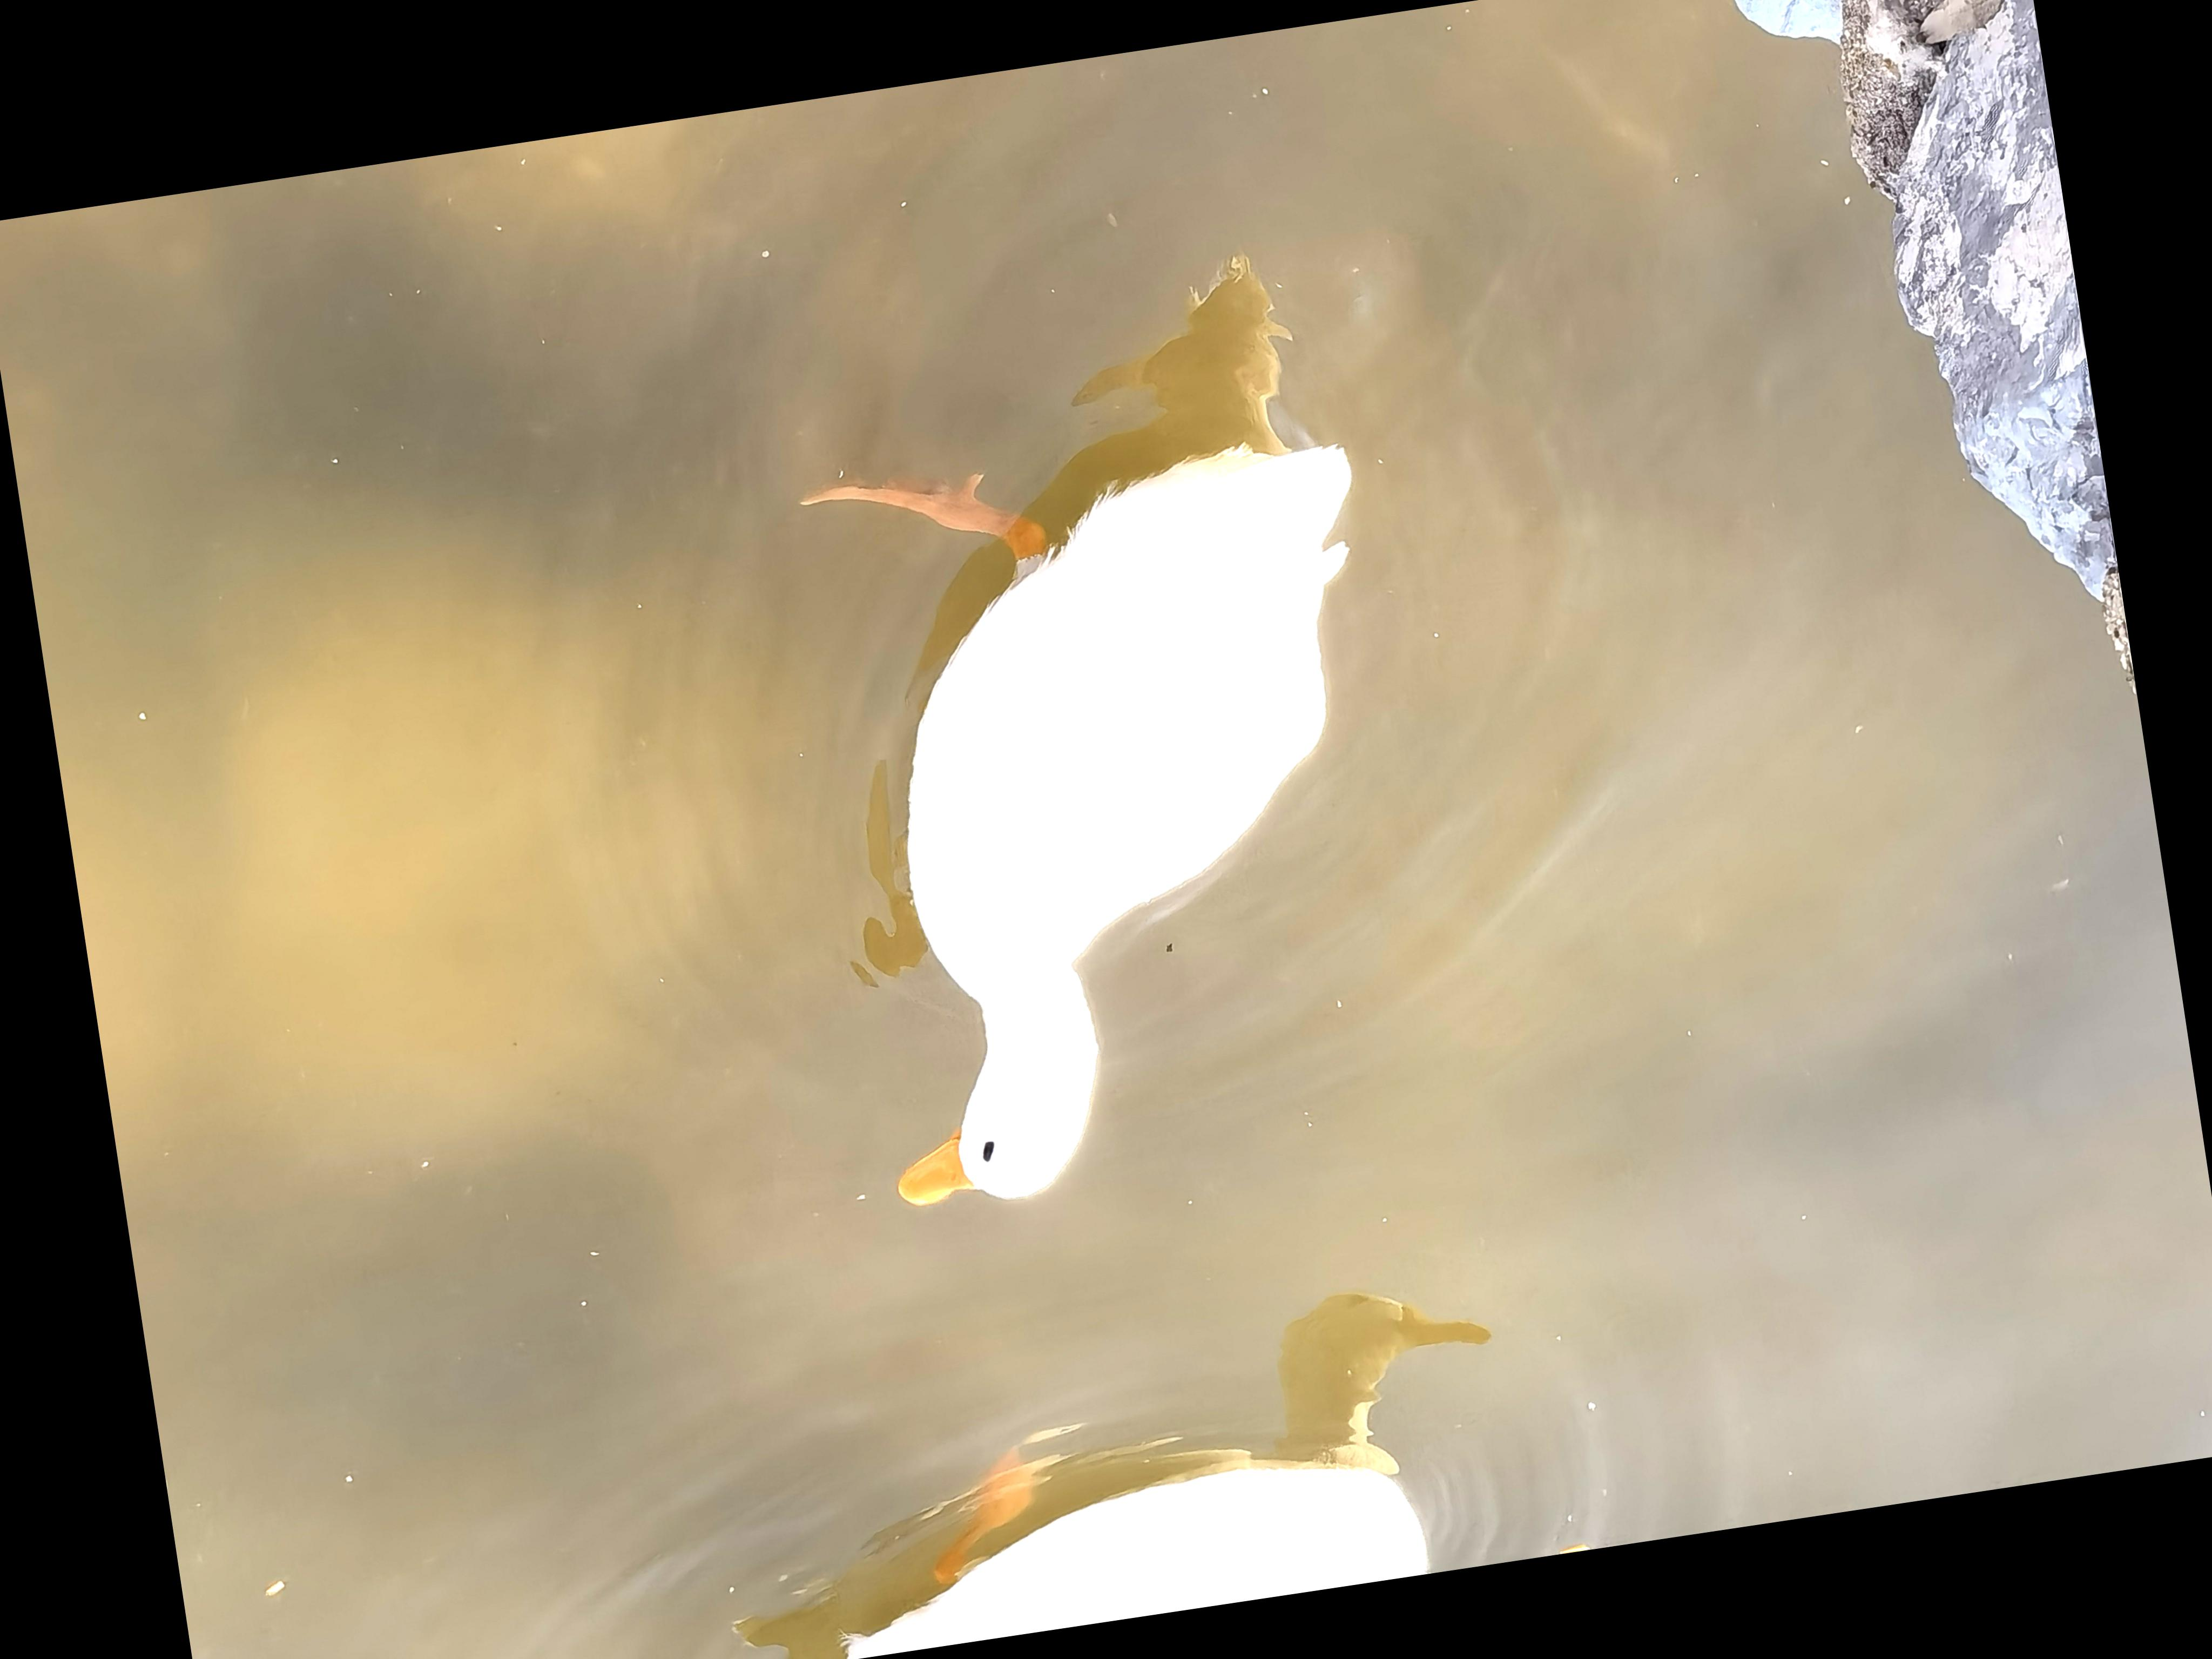duck: (731, 319, 1485, 1259), (732, 1262, 1524, 1659)
